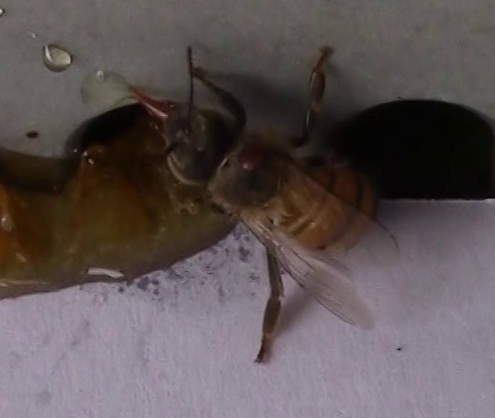Varroa destructor: (235, 142, 269, 172)
